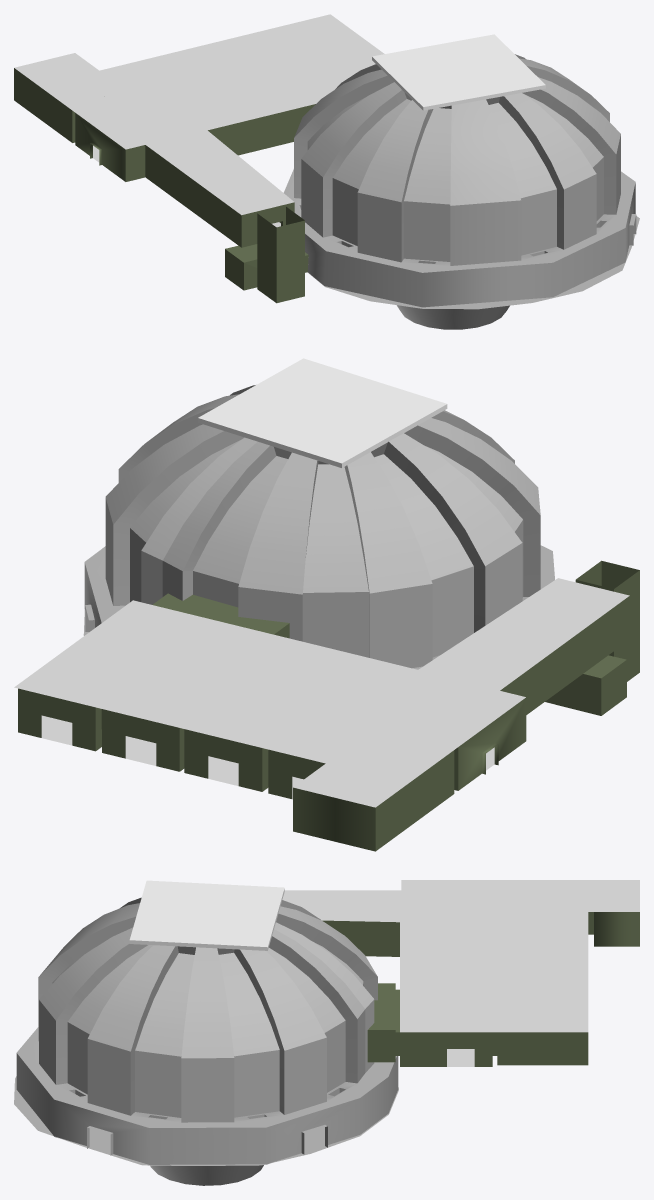
The model's file is FinalRoom.fbx.
3 views of the same model, one above another, from view 1: azimuth 30°, elevation 25°; view 2: azimuth 150°, elevation 25°; view 3: azimuth 270°, elevation 25° (orthographic). The views are drawn at different scales.
Visible parts, largest first — view 1: polySurface704, polySurface700.001, polySurface700, Hatch_door_1, Hatch_door_2, Floor; view 2: polySurface704, polySurface700.001, polySurface700, Hatch_door_1, Hatch_door_2, polySurface700.002; view 3: polySurface704, polySurface700.001, polySurface700, Hatch_door_2, Hatch_door_1, Floor, polySurface700.002.
Part boxes in pixels (x1,y1,x2,y2): polySurface704: (283, 54, 636, 307); polySurface700.001: (14, 14, 384, 215); polySurface700: (14, 68, 315, 303); Hatch_door_1: (372, 45, 484, 110); Hatch_door_2: (433, 34, 545, 99); Floor: (307, 216, 639, 329); polySurface704: (84, 385, 554, 669); polySurface700.001: (14, 578, 629, 807); polySurface700: (18, 560, 639, 851); Hatch_door_1: (270, 381, 447, 467); Hatch_door_2: (198, 358, 375, 445); polySurface700.002: (41, 715, 494, 799); polySurface704: (16, 897, 398, 1164); polySurface700.001: (282, 880, 639, 1032); polySurface700: (322, 912, 639, 1066); Hatch_door_2: (129, 910, 276, 950); Hatch_door_1: (138, 880, 284, 920); Floor: (14, 1076, 398, 1185); polySurface700.002: (447, 1049, 474, 1066).
Bounding box in the file's own units: 8786 × 4966 × 11245.
